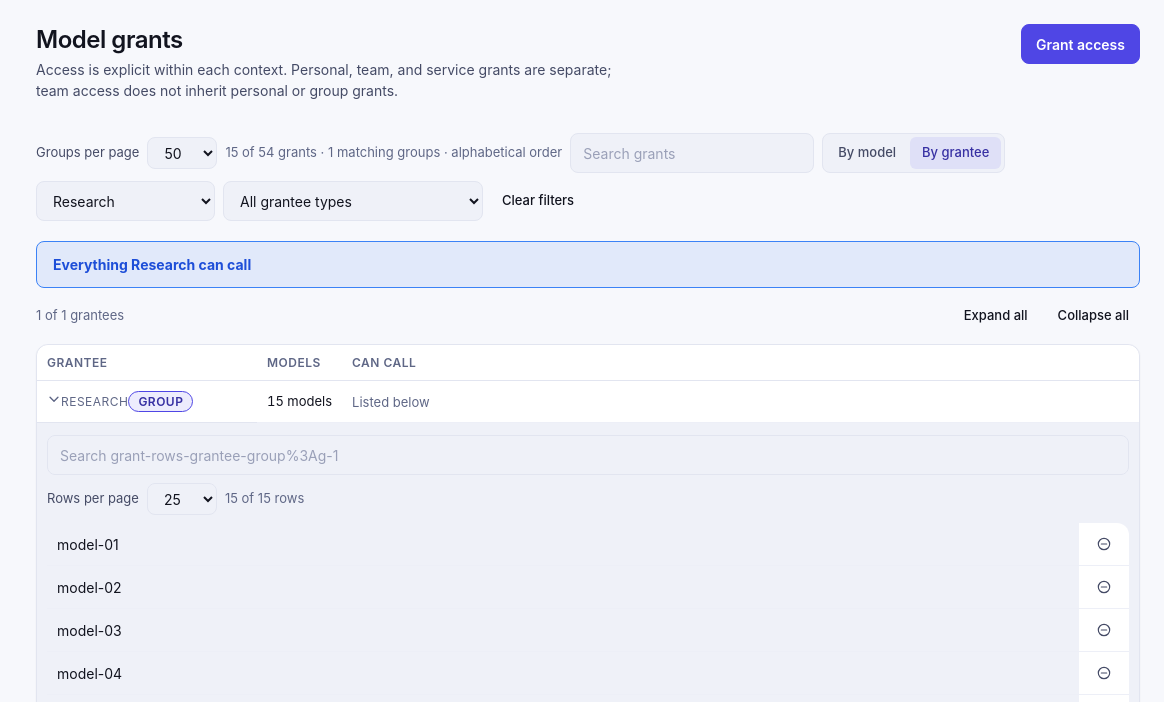
Test: GrantsPage — scalable list › restores view, grantee and page from the URL and lets a grantee name focus that grantee
The image size is (1164, 702).
Expected: the text with test id "grants-group-count" reads "1 of 1 grantees", [36,307,124,323]
Expected: the column heading "Research Group" is shown, [37,381,257,423]
Note: Back to the model view, open a card, click a grantee name → focused.
Click the button "Clear filters".
click(538, 201)  # box [491,185,585,217]
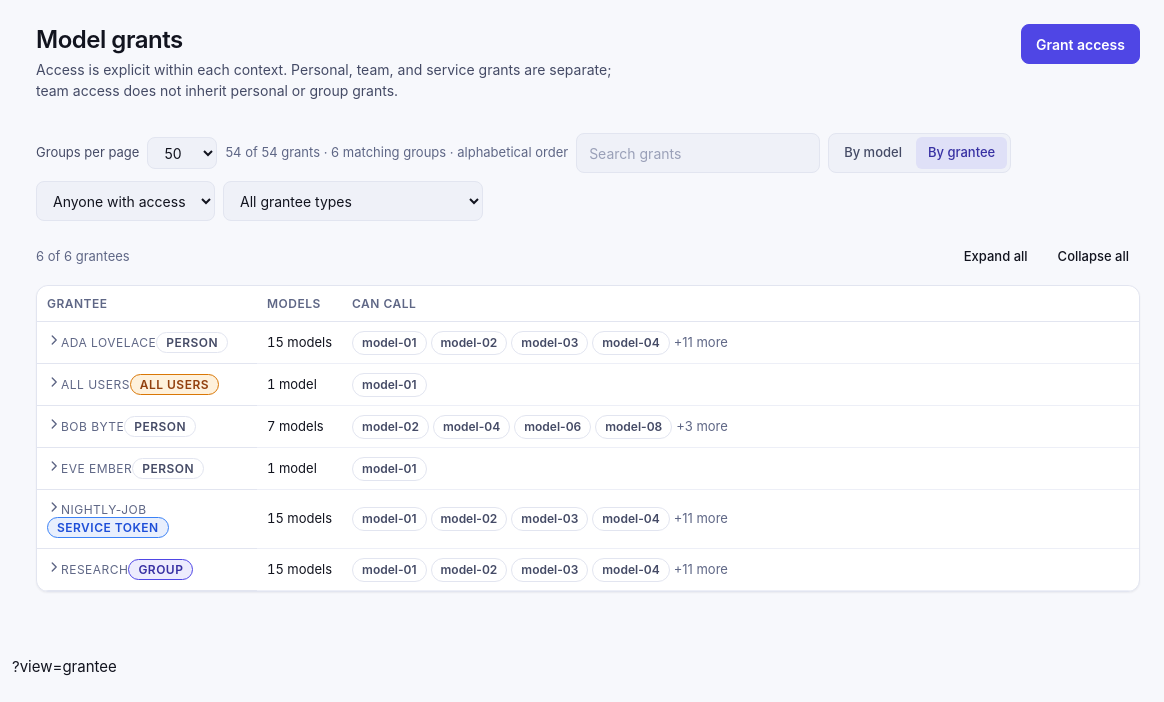
Click the button "By model".
click(873, 153)  # box [832,137,914,169]
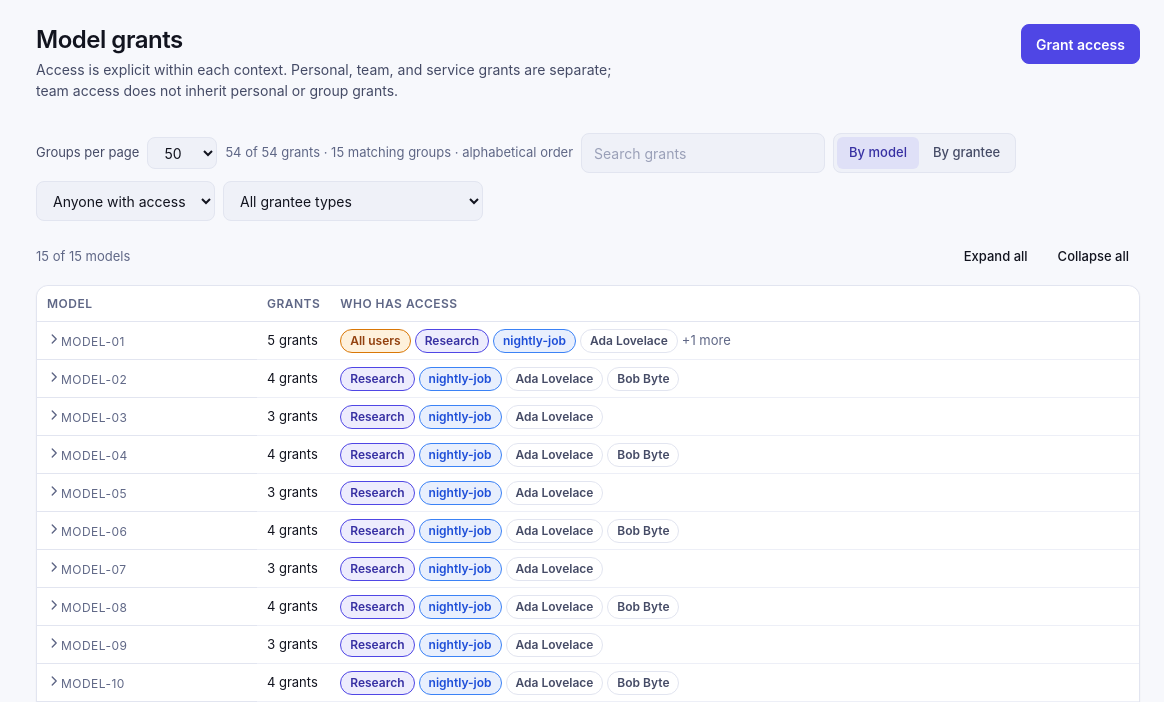
Click the button with aria-label "Show model-01 grants".
click(86, 341)  # box [47,332,125,349]
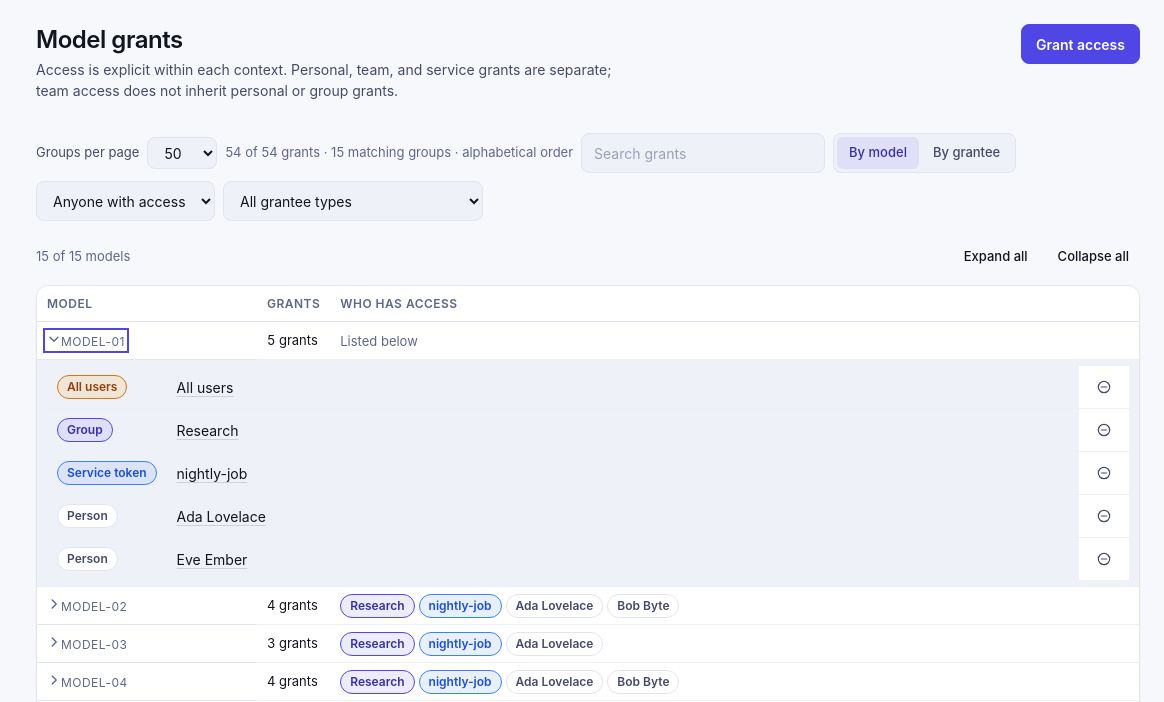
Click the button "Eve Ember".
click(212, 559)  # box [177,549,247,570]
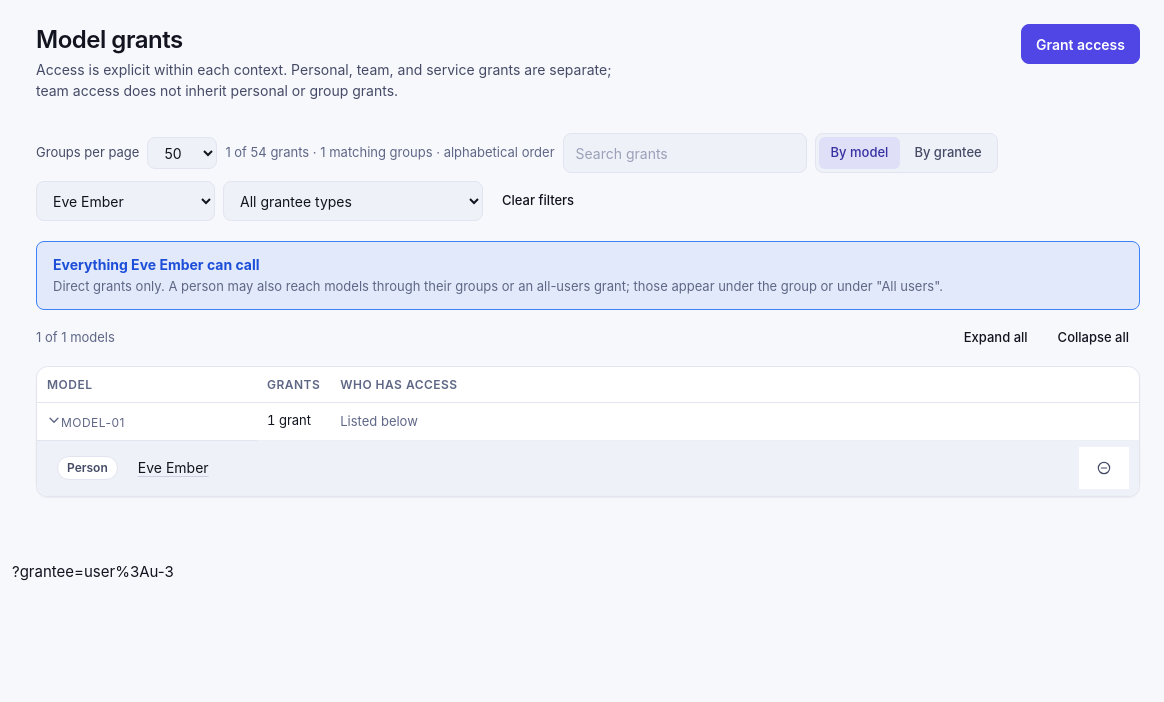
Result: the text "Everything Eve Ember can call" is shown at [53,256,260,273]
Result: the text with test id "grants-group-count" reads "1 of 1 models" at [36,329,115,345]
